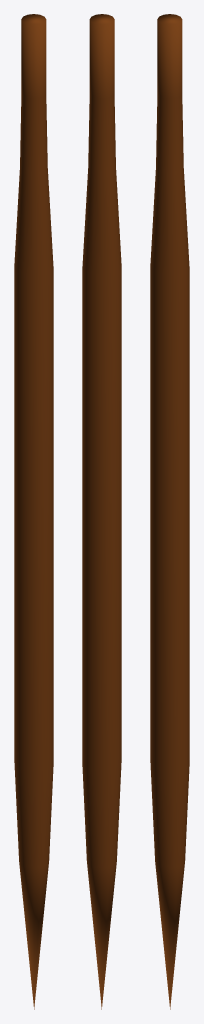
Rendered from harpoon_handle.fbx.
The picture shows the model from 3 angles, left to right: view 1: azimuth 30°, elevation 25°; view 2: azimuth 150°, elevation 25°; view 3: azimuth 330°, elevation 25°; orthographic projection.
Visible parts, largest first — view 1: mango_arpon; view 2: mango_arpon; view 3: mango_arpon.
Part boxes in pixels (x1,y1,x2,y2): mango_arpon: [14, 14, 53, 1009]; mango_arpon: [82, 14, 121, 1009]; mango_arpon: [150, 14, 189, 1009].
Size of the model in its own units: 10.51 by 291 by 10.45.
